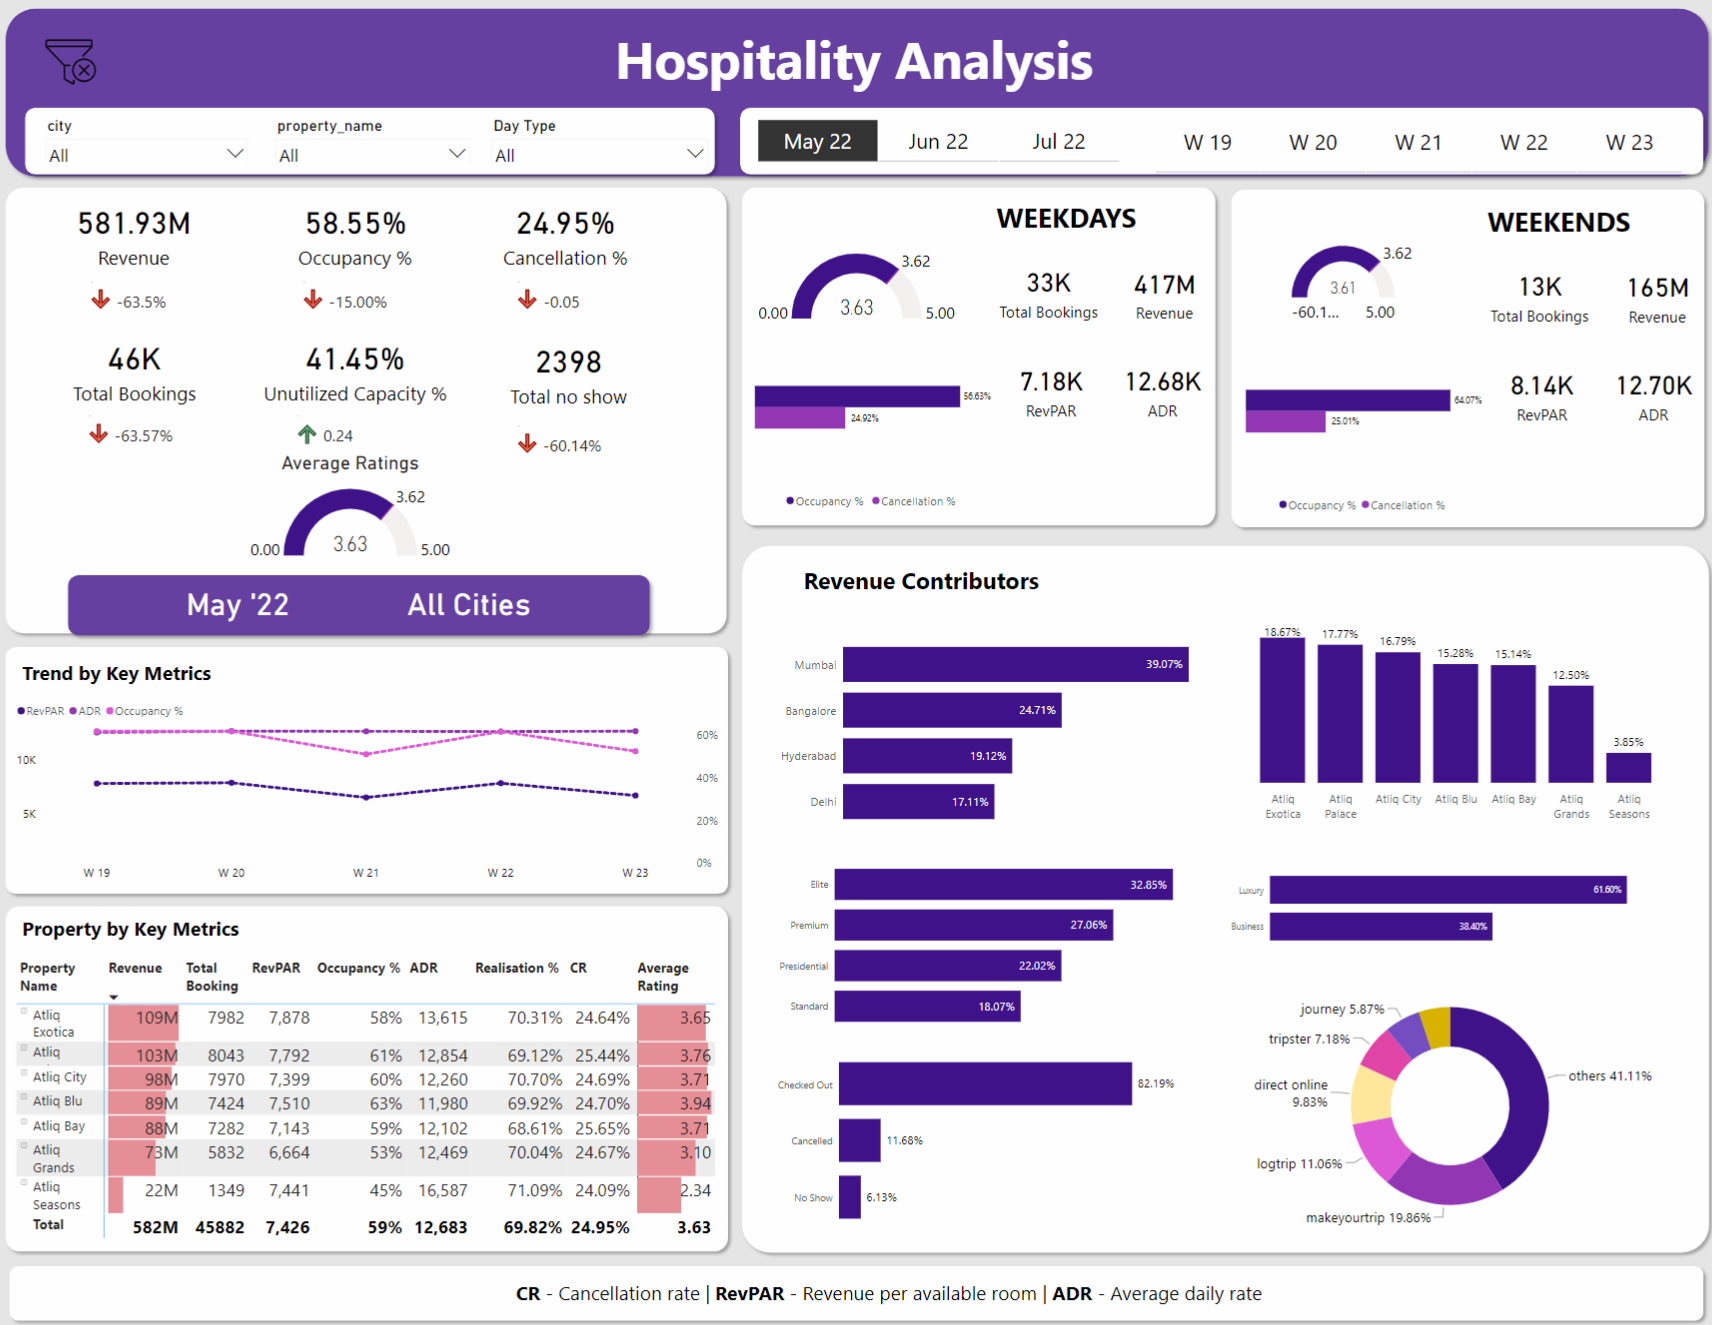

The dashboard page shown, as its layout file describes it:
{"tool":"powerbi","page":{"name":"Overview","canvas":[2450,1850],"ordinal":0},"visuals":[{"type":"shape","box":[1057.9,751,1365.4,1003.4],"z":0},{"type":"barChart","title":"Successful vs. Canceled vs. No Show","fields":{"Category":["fact_bookings.booking_status"],"Y":["Key_Measures.Revenue"]},"box":[1106.5,1434.8,596.9,302.7],"z":1000},{"type":"barChart","fields":{"Y":["Key_Measures.Revenue"],"Category":["dim_hotels.city"]},"box":[1109.6,863.7,596.1,311.1],"z":2000},{"type":"barChart","fields":{"Y":["Key_Measures.Revenue"],"Category":["dim_rooms.room_class"]},"box":[1107.4,1174.8,596.1,278.5],"z":3000},{"type":"donutChart","fields":{"Category":["fact_bookings.booking_platform"],"Y":["Key_Measures.Revenue"]},"box":[1738.3,1355.4,633.1,374.2],"z":4000},{"type":"columnChart","fields":{"Category":["dim_hotels.property_name"],"Y":["Divide(Key_Measures.Revenue, ScopedEval(Key_Measures.Revenue, []))"]},"box":[1740.5,861.5,633.1,291.5],"z":5000},{"type":"barChart","fields":{"Y":["Key_Measures.Revenue"],"Category":["dim_hotels.category"]},"box":[1740.5,1161.8,633.1,202.3],"z":6000},{"type":"textbox","box":[1148.9,780.6,436.1,59.3],"z":7000},{"type":"shape","box":[1739.5,255.6,677.4,489],"z":8000},{"type":"gauge","fields":{"Y":["Key_Measures.Average Ratings for weekend"],"MinValue":["Key_Measures.Total No Show WoW change %"]},"box":[1764.4,330.7,293.7,128.4],"z":9000},{"type":"textbox","box":[2102.2,278.2,271,72],"z":10000},{"type":"card","fields":{"Values":["Key_Measures.Total Bookings weekend"]},"box":[2097.3,361.5,160.9,97.4],"z":11000},{"type":"card","fields":{"Values":["Key_Measures.Revenue weekend"]},"box":[2265.4,366.9,152.4,91],"z":12000},{"type":"card","fields":{"Values":["Key_Measures.RevPAR Weekend"]},"box":[2104.5,496,156.6,101.6],"z":13000},{"type":"card","fields":{"Values":["Key_Measures.ADR weekend"]},"box":[2262.4,496.9,152.4,101.6],"z":14000},{"type":"clusteredBarChart","fields":{"Y":["Key_Measures.Occupancy % weekend","Key_Measures.Cancellation % weekend"]},"box":[1763.5,451.8,338.7,273.1],"z":15000},{"type":"shape","box":[33.4,892.8,1024.5,362],"z":16000},{"type":"lineChart","fields":{"Category":["dim_date.mmm yy.Variation.Date Hierarchy.Month","dim_date.week no"],"Y":["Key_Measures.RevPAR","Key_Measures.ADR"],"Y2":["Key_Measures.Occupancy %"]},"box":[52.4,969,988.6,268.8],"z":17000},{"type":"textbox","box":[60.7,913.7,435.7,54.7],"z":18000},{"type":"shape","box":[33.4,1254.8,1024.5,499.6],"z":19000},{"type":"pivotTable","fields":{"Rows":["dim_hotels.property_name","dim_hotels.city"],"Values":["Key_Measures.Revenue","Key_Measures.Total Bookings","Key_Measures.RevPAR","Key_Measures.Occupancy %","Key_Measures.ADR","Key_Measures.Realisation %","Key_Measures.Cancellation %","Key_Measures.Average Ratings"]},"box":[50.3,1331,1005.5,421.2],"z":20000},{"type":"textbox","box":[58.8,1271.7,372.6,52.9],"z":21000},{"type":"shape","box":[33.4,251.4,1022.4,639.3],"z":22000},{"type":"card","fields":{"Values":["Key_Measures.Revenue"]},"box":[95.4,265.1,249.8,113.6],"z":23000},{"type":"card","fields":{"Values":["Key_Measures.Total Bookings"]},"box":[95.4,452,252.1,118.1],"z":24000},{"type":"card","fields":{"Values":["Key_Measures.Occupancy %"]},"box":[386.1,265.1,286.2,113.6],"z":25000},{"type":"card","fields":{"Values":["Key_Measures.Cancellation %"]},"box":[706.4,265.1,231.7,113.6],"z":26000},{"type":"card","fields":{"Values":["Key_Measures.Unutilized Capacity %"]},"box":[386.1,452,286.2,118.1],"z":27000},{"type":"gauge","fields":{"Y":["Key_Measures.Average Ratings"]},"box":[217.6,630.9,609.2,154.5],"z":28000},{"type":"shape","box":[119.7,791.9,828.9,102.3],"z":29000},{"type":"card","fields":{"Values":["Key_Measures.Selected Month"]},"box":[195.8,789.8,339.4,93.6],"z":30000},{"type":"card","fields":{"Values":["Key_Measures.Selected City"]},"box":[547.7,791.2,277.3,95.3],"z":31000},{"type":"shape","box":[1057.9,251.4,677.4,489],"z":32000},{"type":"gauge","fields":{"Y":["Key_Measures.Average Ratings for weekday"]},"box":[1081.3,328.5,293.7,130.5],"z":33000},{"type":"textbox","box":[1417.9,272.7,271,72],"z":34000},{"type":"card","fields":{"Values":["Key_Measures.Total Bookings weekday"]},"box":[1412.9,355.9,160.9,97.4],"z":35000},{"type":"card","fields":{"Values":["Key_Measures.Revenue weekday"]},"box":[1581.1,361.3,152.4,91],"z":36000},{"type":"card","fields":{"Values":["Key_Measures.RevPAR Weekday"]},"box":[1420.2,490.5,156.6,101.6],"z":37000},{"type":"card","fields":{"Values":["Key_Measures.ADR weekday"]},"box":[1578.1,491.4,152.4,101.6],"z":38000},{"type":"clusteredBarChart","fields":{"Y":["Key_Measures.Occupancy % weekday","Key_Measures.Cancellation % weekday"]},"box":[1079.2,446.3,338.7,273.1],"z":39000},{"type":"card","fields":{"Values":["Key_Measures.Total no show bookings"]},"box":[698.4,452.4,256.7,126.2],"z":40000},{"type":"shape","box":[32.6,2.2,2391,252.4],"z":41000},{"type":"image","box":[87,45.7,91.4,80.5],"z":42000},{"type":"shape","box":[60.9,141.4,979,111],"z":43000},{"type":"slicer","fields":{"Values":["dim_hotels.property_name"]},"box":[406.8,158.4,291.5,71.8],"z":44000},{"type":"slicer","fields":{"Values":["dim_hotels.city"]},"box":[87,158.4,302.4,69.6],"z":45000},{"type":"slicer","fields":{"Values":["dim_date.Day Type"]},"box":[709.3,158.4,322,69.6],"z":46000},{"type":"shape","box":[1055.2,141.4,1359.8,111],"z":47000},{"type":"slicer","fields":{"Values":["dim_date.week no"]},"box":[1616.5,145.8,783.2,100.1],"z":48000},{"type":"slicer","fields":{"Values":["dim_date.mmm yy"]},"box":[1063.9,161,552.6,71.8],"z":49000},{"type":"textbox","box":[459.1,28.3,1529.5,134.9],"z":50000},{"type":"shape","box":[37,1755.7,2378,93.6],"z":51000},{"type":"textbox","box":[496,1777.5,1551.2,65.3],"z":52000},{"type":"tableEx","fields":{"Values":["Key_Measures.Revenue WoW change %"]},"box":[148.6,377.3,165.8,75],"z":52001},{"type":"tableEx","fields":{"Values":["Key_Measures.Occupancy WoW change %"]},"box":[446.1,377.3,159,65.9],"z":52002},{"type":"tableEx","fields":{"Values":["Key_Measures.Cancellation % WoW change %"]},"box":[743.6,377.2,159,68.1],"z":52003},{"type":"tableEx","fields":{"Values":["Key_Measures.Total Bookings WoW change %"]},"box":[147.6,565.6,165.8,65.9],"z":52004},{"type":"tableEx","fields":{"Values":["Key_Measures.Unutilized Capacity % WoW change %"]},"box":[438.4,563.3,168.1,63.6],"z":52005},{"type":"tableEx","fields":{"Values":["Key_Measures.Total No Show WoW change %"]},"box":[742.7,579.2,168.1,63.6],"z":52006}]}

Visuals, with their boxes in screenshot pixels (x1, y1, x2, y2), scaled from the page's 2450x1850 canvas onto the 1712x1325 screenshot:
shape: 739 538 1693 1257
"Successful vs. Canceled vs. No Show" barChart: 773 1028 1190 1244
barChart - Key_Measures.Revenue x dim_hotels.city: 775 619 1192 841
barChart - Key_Measures.Revenue x dim_rooms.room_class: 774 841 1190 1041
donutChart - fact_bookings.booking_platform x Key_Measures.Revenue: 1215 971 1657 1239
columnChart - dim_hotels.property_name x Divide(Key_Measures.Revenue, ScopedEval(Key_Measures.Revenue, [])): 1216 617 1659 826
barChart - Key_Measures.Revenue x dim_hotels.category: 1216 832 1659 977
textbox: 803 559 1108 602
shape: 1216 183 1689 533
gauge - Key_Measures.Average Ratings for weekend x Key_Measures.Total No Show WoW change %: 1233 237 1438 329
textbox: 1469 199 1658 251
card - Key_Measures.Total Bookings weekend: 1466 259 1578 329
card - Key_Measures.Revenue weekend: 1583 263 1689 328
card - Key_Measures.RevPAR Weekend: 1471 355 1580 428
card - Key_Measures.ADR weekend: 1581 356 1687 429
clusteredBarChart - Key_Measures.Occupancy % weekend x Key_Measures.Cancellation % weekend: 1232 324 1469 519
shape: 23 639 739 899
lineChart - dim_date.mmm yy.Variation.Date Hierarchy.Month x dim_date.week no: 37 694 727 887
textbox: 42 654 347 694
shape: 23 899 739 1257
pivotTable - dim_hotels.property_name x dim_hotels.city: 35 953 738 1255
textbox: 41 911 301 949
shape: 23 180 738 638
card - Key_Measures.Revenue: 67 190 241 271
card - Key_Measures.Total Bookings: 67 324 243 408
card - Key_Measures.Occupancy %: 270 190 470 271
card - Key_Measures.Cancellation %: 494 190 656 271
card - Key_Measures.Unutilized Capacity %: 270 324 470 408
gauge - Key_Measures.Average Ratings: 152 452 578 563
shape: 84 567 663 640
card - Key_Measures.Selected Month: 137 566 374 633
card - Key_Measures.Selected City: 383 567 576 635
shape: 739 180 1213 530
gauge - Key_Measures.Average Ratings for weekday: 756 235 961 329
textbox: 991 195 1180 247
card - Key_Measures.Total Bookings weekday: 987 255 1100 325
card - Key_Measures.Revenue weekday: 1105 259 1211 324
card - Key_Measures.RevPAR Weekday: 992 351 1102 424
card - Key_Measures.ADR weekday: 1103 352 1209 425
clusteredBarChart - Key_Measures.Occupancy % weekday x Key_Measures.Cancellation % weekday: 754 320 991 515
card - Key_Measures.Total no show bookings: 488 324 667 414
shape: 23 2 1694 182
image: 61 33 125 90
shape: 43 101 727 181
slicer - dim_hotels.property_name: 284 113 488 165
slicer - dim_hotels.city: 61 113 272 163
slicer - dim_date.Day Type: 496 113 721 163
shape: 737 101 1688 181
slicer - dim_date.week no: 1130 104 1677 176
slicer - dim_date.mmm yy: 743 115 1130 167
textbox: 321 20 1390 117
shape: 26 1257 1688 1324
textbox: 347 1273 1431 1320
tableEx - Key_Measures.Revenue WoW change %: 104 270 220 324
tableEx - Key_Measures.Occupancy WoW change %: 312 270 423 317
tableEx - Key_Measures.Cancellation % WoW change %: 520 270 631 319
tableEx - Key_Measures.Total Bookings WoW change %: 103 405 219 452
tableEx - Key_Measures.Unutilized Capacity % WoW change %: 306 403 424 449
tableEx - Key_Measures.Total No Show WoW change %: 519 415 636 460
